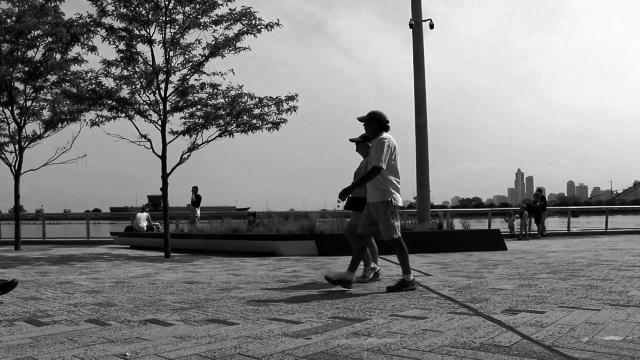berjalan: (322, 109, 418, 300), (332, 131, 386, 283)
